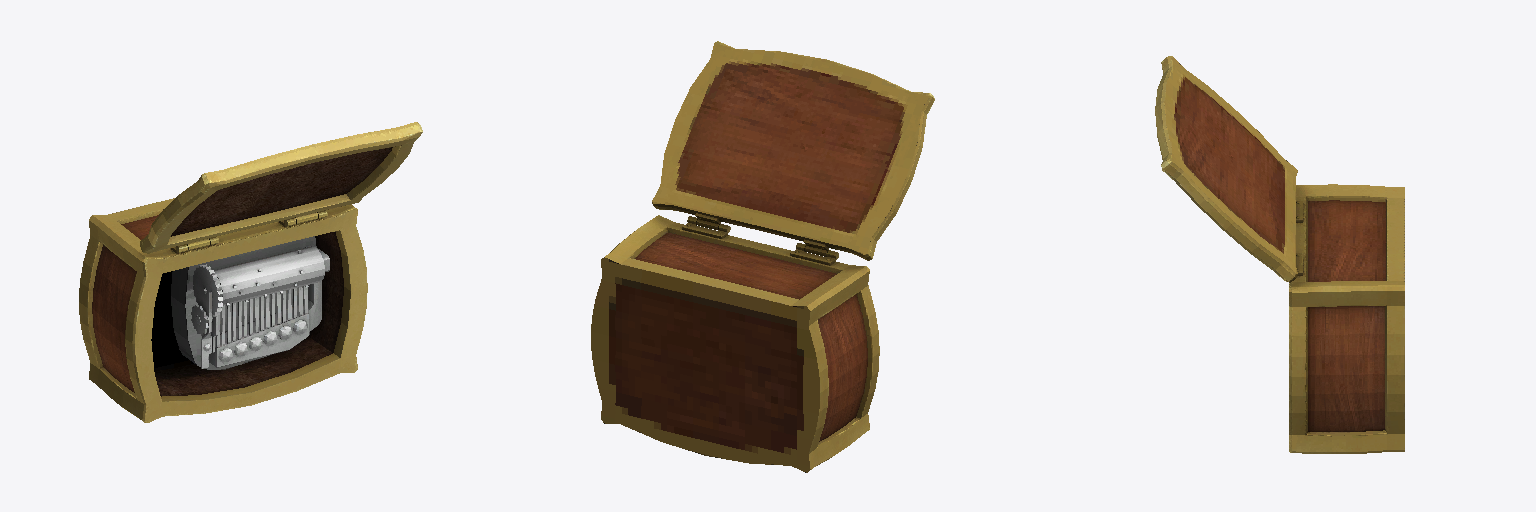
3 views of the same model, side by side, from view 1: azimuth 30°, elevation 25°; view 2: azimuth 150°, elevation 25°; view 3: azimuth 270°, elevation 25° (orthographic).
Visible parts, largest first — view 1: mesh0, mesh3, mesh1, mesh2; view 2: mesh0, mesh2; view 3: mesh0, mesh2.
Part boxes in pixels (x1,y1,x2,y2): mesh0: (79, 122, 422, 422); mesh3: (171, 236, 329, 369); mesh1: (151, 147, 392, 395); mesh2: (92, 215, 158, 392); mesh0: (591, 41, 934, 472); mesh2: (635, 233, 867, 441); mesh0: (1155, 56, 1404, 453); mesh2: (1308, 200, 1385, 431).
Bounding box in the file's own units: 22.47 × 28.07 × 20.61.
Materials: 4 (1 with a texture image).